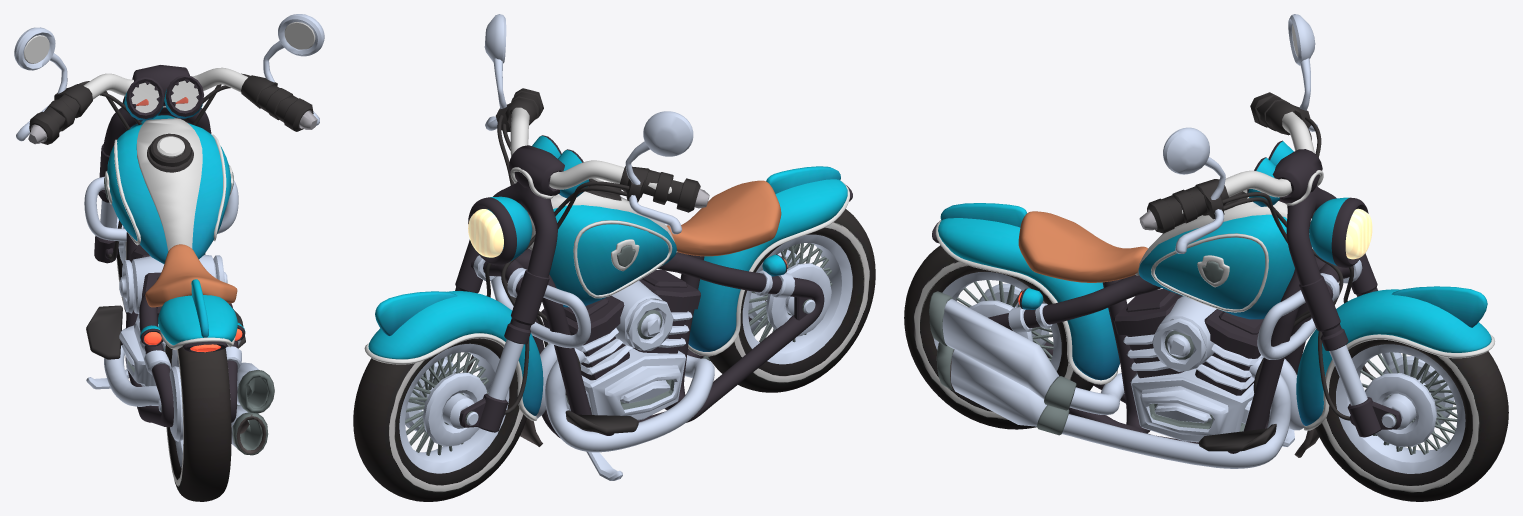
File: moto_01.glb
3 views of the same model, side by side, from view 1: azimuth 30°, elevation 25°; view 2: azimuth 150°, elevation 25°; view 3: azimuth 270°, elevation 25° (orthographic). The views are drawn at different scales.
Parts seen in each view (by area): view 1: Circle.003, Cube.013, Cube.009, Cylinder.018, Cube.011, Cylinder.027, Plane.010, Cube.012, Circle.015, Plane.014, NurbsPath.011, Plane.009 (+20 smaller); view 2: Cube.011, Circle.012, Plane.010, Circle.014, Cube.013, Circle.003, Circle.002, Circle.011, Circle.015, NurbsPath.013, Cube.012, Cylinder.016 (+22 smaller); view 3: Cube.011, Circle.012, Circle.014, Cube.013, Circle.011, NurbsPath.013, Plane.010, Circle.015, Cylinder.001, Circle.003, Cube.012, Cylinder.014 (+23 smaller).
Boxes of the visible parts, bbox=[...] form: Circle.003: bbox=[164, 344, 231, 501]; Cube.013: bbox=[107, 123, 231, 263]; Cube.009: bbox=[136, 118, 202, 251]; Cylinder.018: bbox=[28, 75, 317, 144]; Cube.011: bbox=[119, 247, 227, 386]; Cylinder.027: bbox=[14, 14, 324, 70]; Plane.010: bbox=[121, 232, 237, 427]; Cube.012: bbox=[145, 244, 237, 307]; Circle.015: bbox=[158, 295, 237, 349]; Plane.014: bbox=[86, 305, 245, 359]; NurbsPath.011: bbox=[84, 176, 238, 241]; Plane.009: bbox=[83, 67, 247, 99]; Cube.011: bbox=[541, 270, 700, 420]; Circle.012: bbox=[353, 338, 526, 501]; Plane.010: bbox=[515, 252, 824, 438]; Circle.014: bbox=[399, 343, 509, 473]; Cube.013: bbox=[526, 205, 676, 307]; Circle.003: bbox=[708, 209, 875, 392]; Circle.002: bbox=[742, 234, 852, 364]; Circle.011: bbox=[368, 291, 543, 415]; Circle.015: bbox=[688, 179, 847, 351]; NurbsPath.013: bbox=[536, 343, 714, 452]; Cube.012: bbox=[666, 180, 781, 256]; Cylinder.016: bbox=[468, 196, 532, 265]; Cube.011: bbox=[1113, 288, 1263, 442]; Circle.012: bbox=[1315, 339, 1508, 501]; Circle.014: bbox=[1336, 344, 1465, 473]; Cube.013: bbox=[1138, 214, 1309, 319]; Circle.011: bbox=[1296, 289, 1491, 425]; NurbsPath.013: bbox=[1062, 356, 1303, 468]; Plane.010: bbox=[988, 269, 1311, 453]; Circle.015: bbox=[938, 218, 1119, 380]; Cylinder.001: bbox=[929, 291, 1076, 410]; Circle.003: bbox=[904, 245, 1093, 429]; Cube.012: bbox=[1018, 211, 1147, 282]; Cylinder.014: bbox=[936, 342, 1069, 435].
Bounding box in the file's own units: 0.9834 × 1.38 × 1.91.
15 materials, 3 textured.
